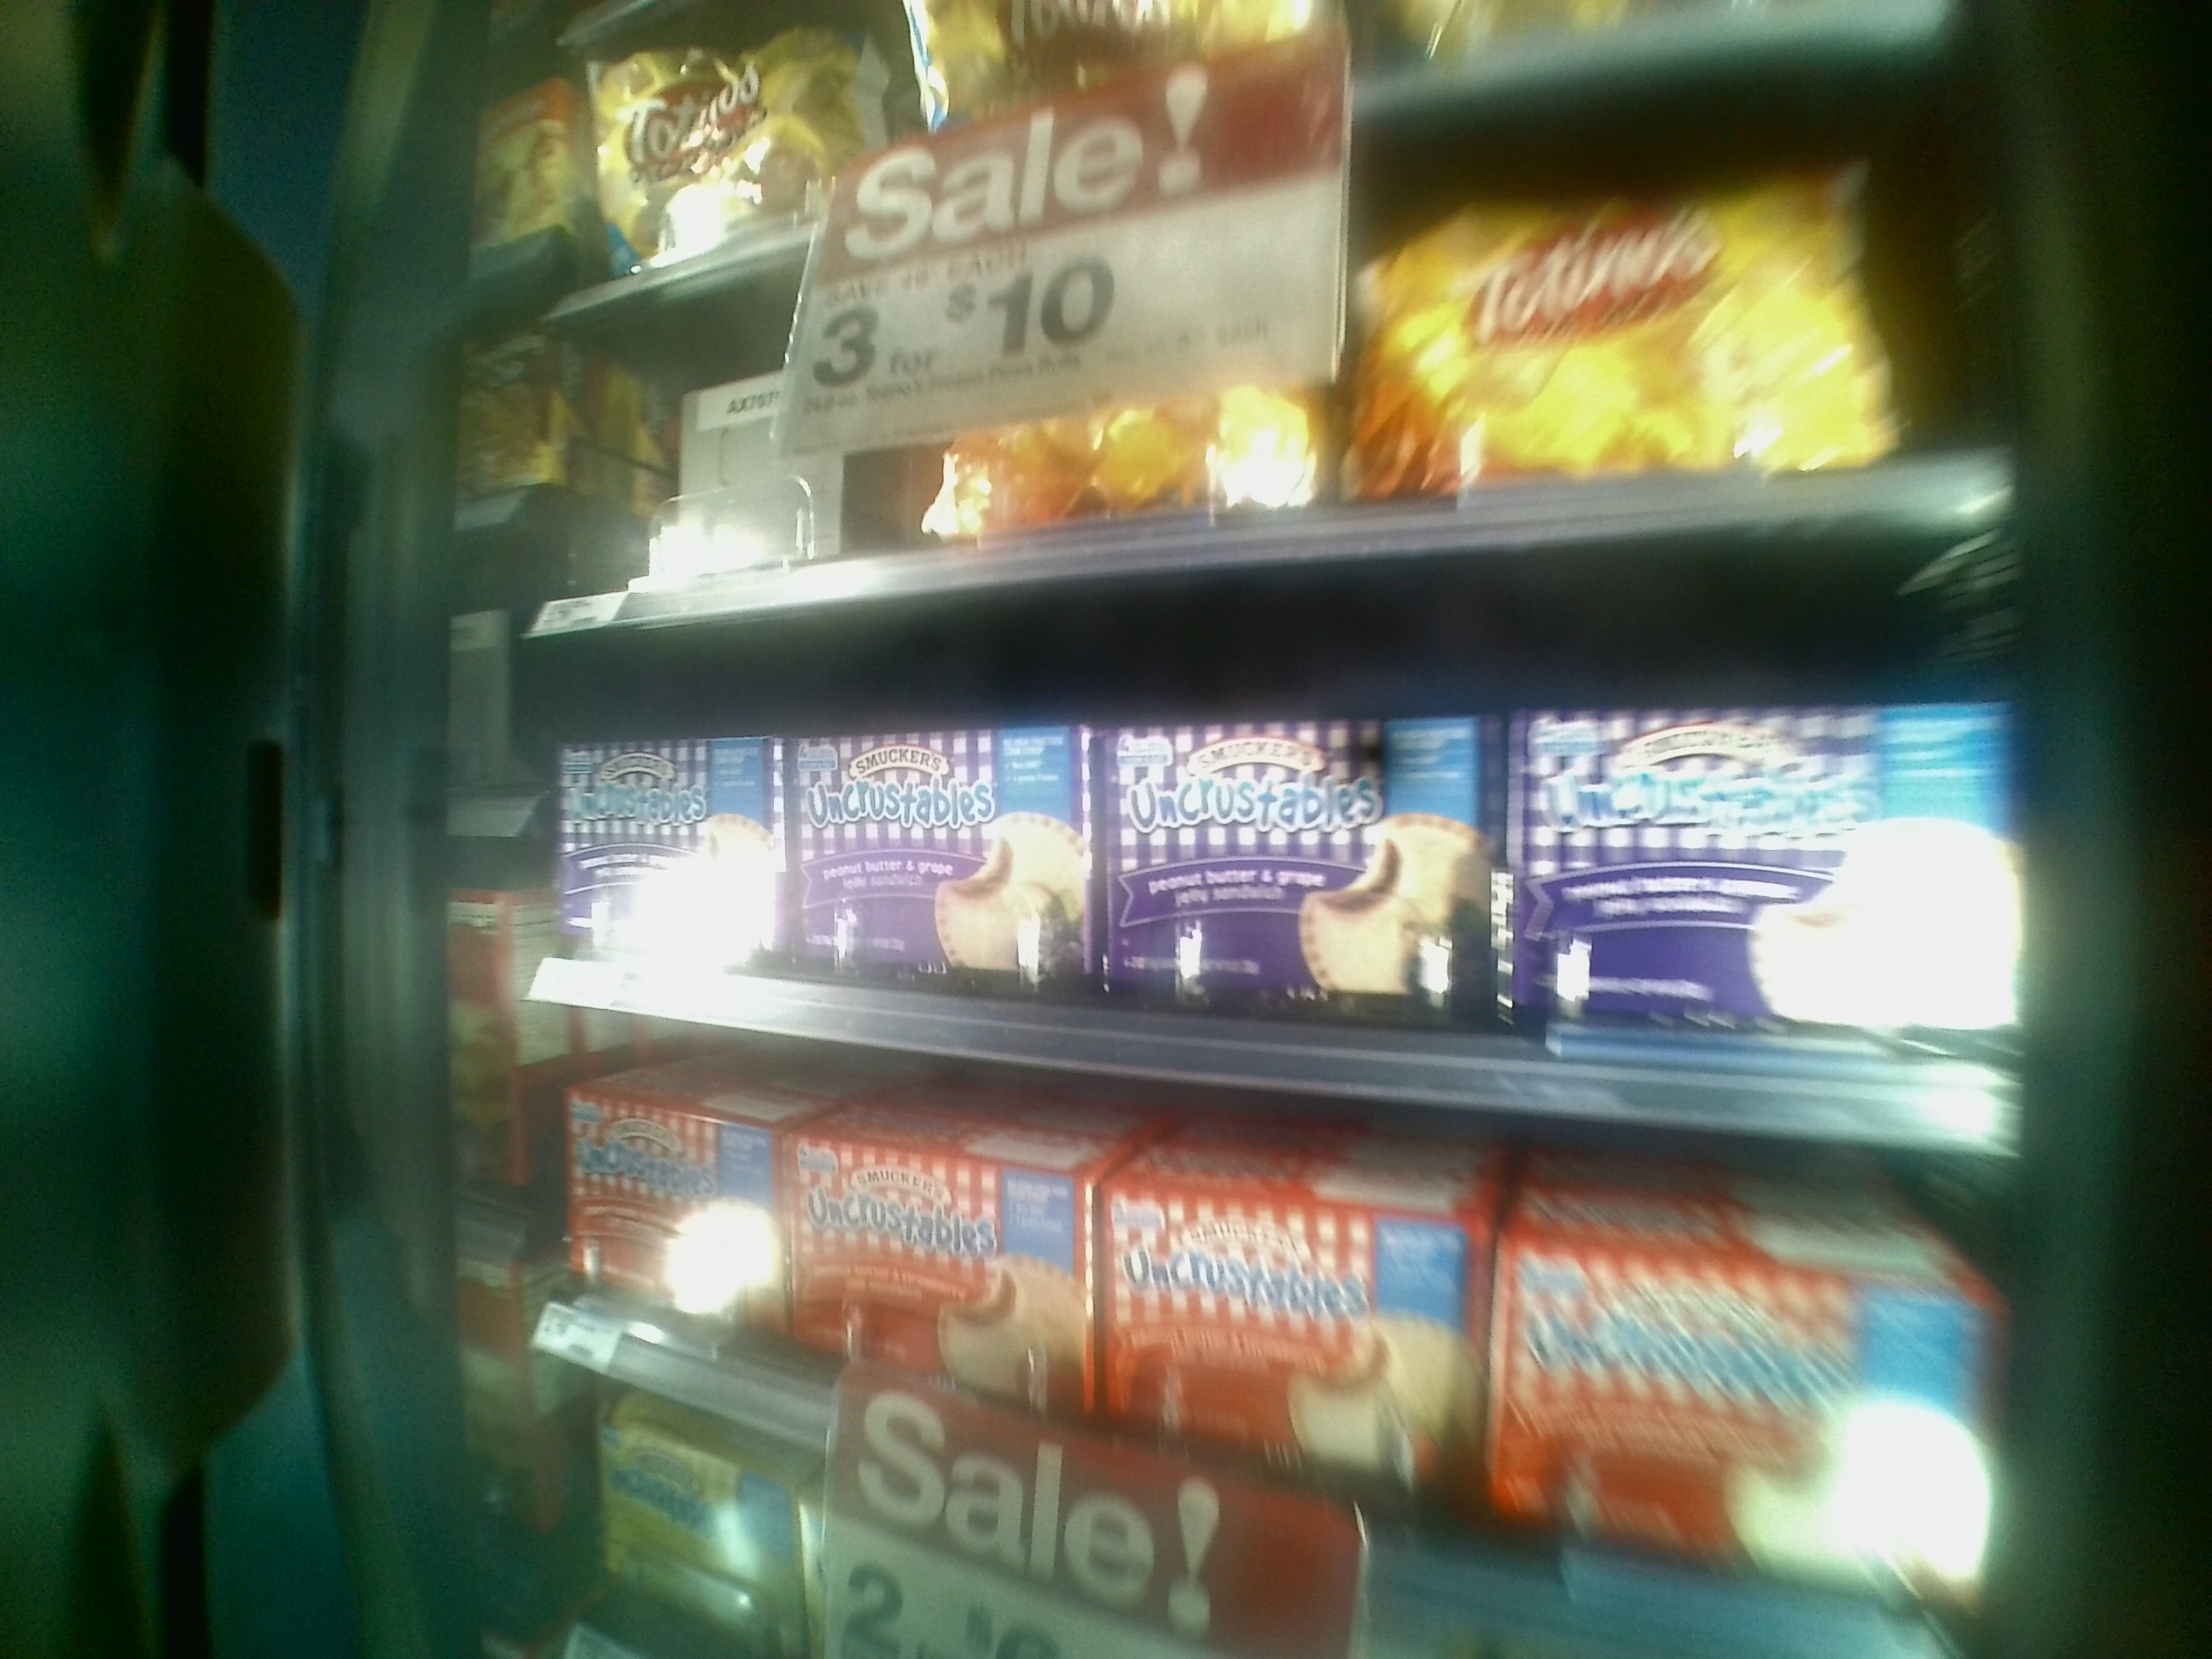shelf: (524, 1025, 2029, 1619), (529, 608, 2024, 1145), (529, 192, 2003, 577)
